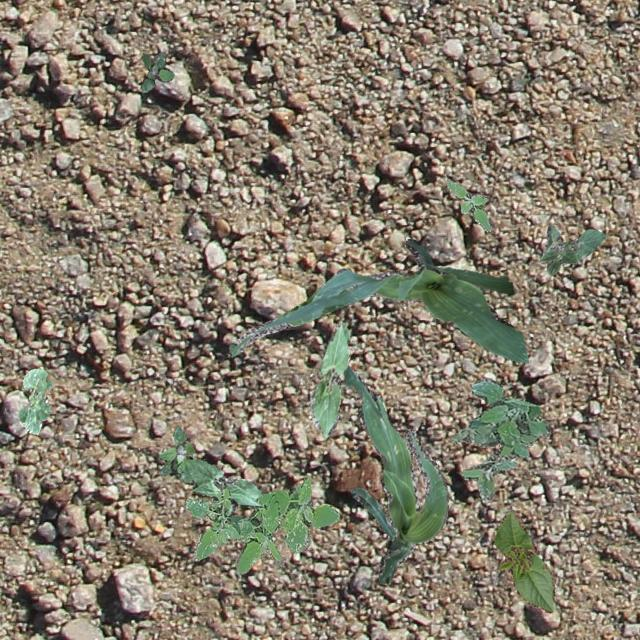crop: (228, 238, 528, 362), (342, 366, 448, 584), (492, 509, 554, 612), (308, 322, 348, 436), (190, 458, 262, 516), (538, 224, 604, 274), (16, 368, 50, 433)
weed: (184, 476, 338, 574), (450, 376, 550, 502), (444, 178, 490, 230), (158, 424, 194, 482), (140, 51, 172, 90)
